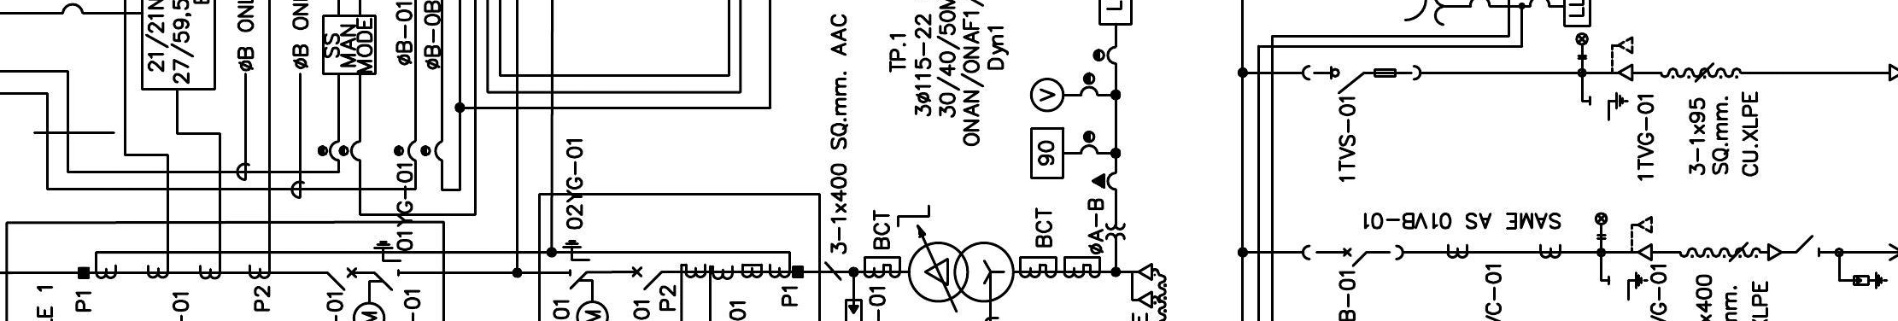11522_tx_dyn1: (907, 241, 1015, 303)
115_breaker: (326, 267, 358, 292), (631, 266, 663, 291)
22_breaker: (1301, 244, 1404, 268)
22_ds: (1301, 64, 1422, 95)
22_gs: (1607, 271, 1649, 302), (1589, 91, 1630, 122)
22_ll: (1594, 211, 1608, 240), (1575, 32, 1589, 60)
ss_man_mode: (321, 13, 378, 76)
terminator_double: (1130, 263, 1153, 309)
terminator_single: (1766, 242, 1783, 262)
terminator_w_future: (1611, 34, 1634, 82), (1630, 215, 1653, 262)
v_m: (1029, 77, 1065, 113)
